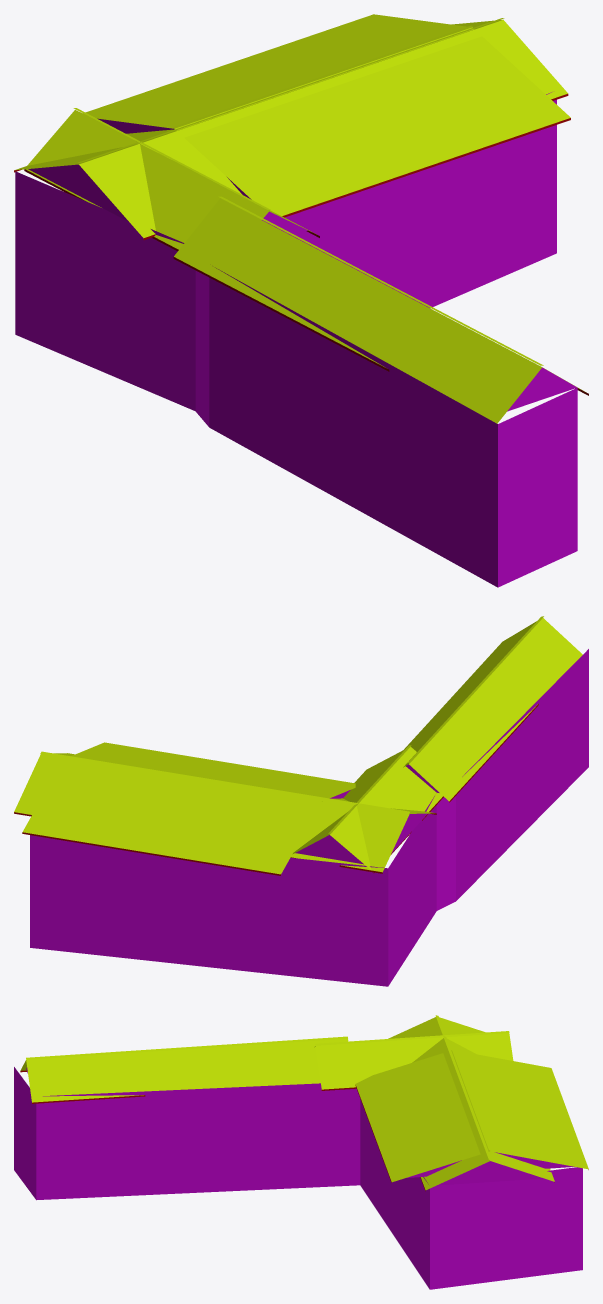
File: svc_59.glb
3 renders of one model, top to bottom at view 1: azimuth 30°, elevation 25°; view 2: azimuth 150°, elevation 25°; view 3: azimuth 270°, elevation 25°, orthographic. The views are drawn at different scales.
Visible parts, largest first — view 1: svc_59; view 2: svc_59; view 3: svc_59.
Part boxes in pixels (x1,y1,x2,y2): svc_59: (14, 14, 588, 587); svc_59: (14, 616, 588, 986); svc_59: (14, 1015, 588, 1289).
Size of the model in its own units: 28.37 by 11.03 by 44.75.
